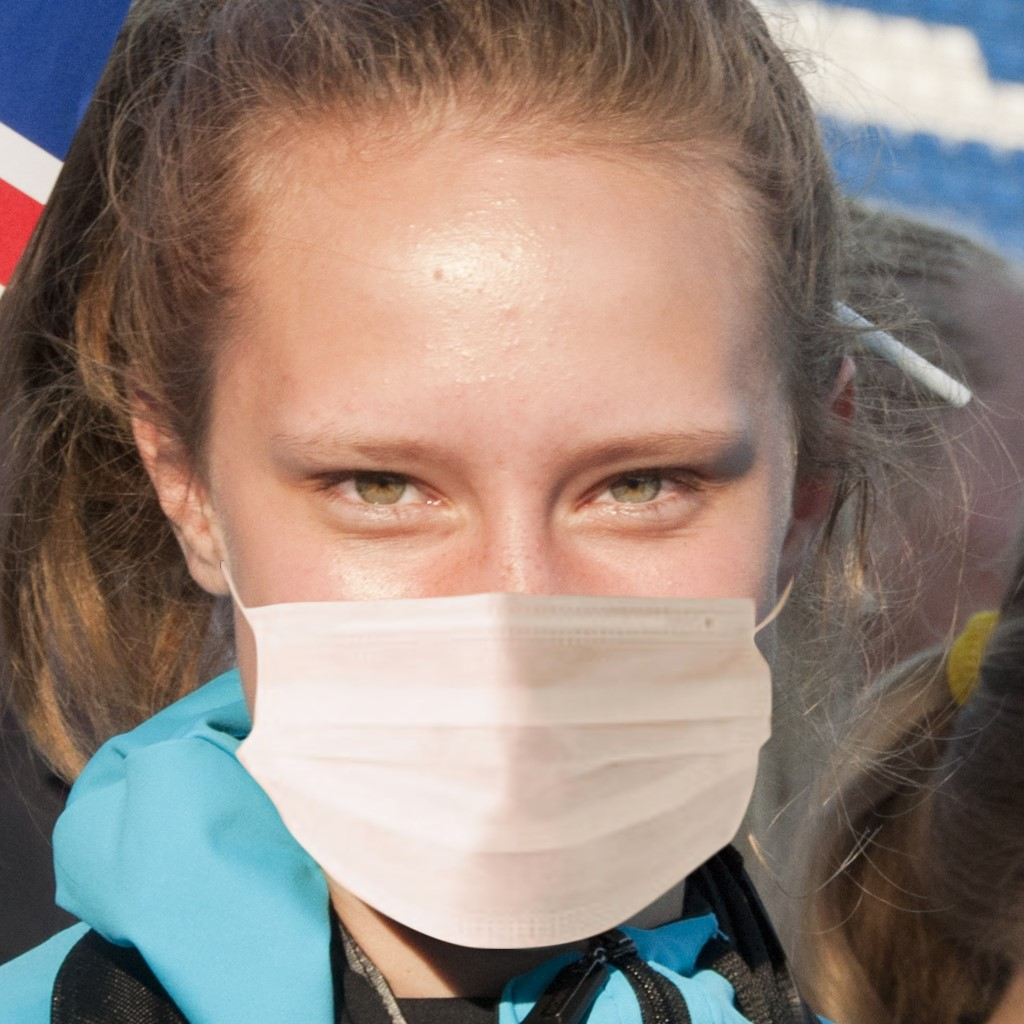con_mascara: (109, 38, 848, 952)
